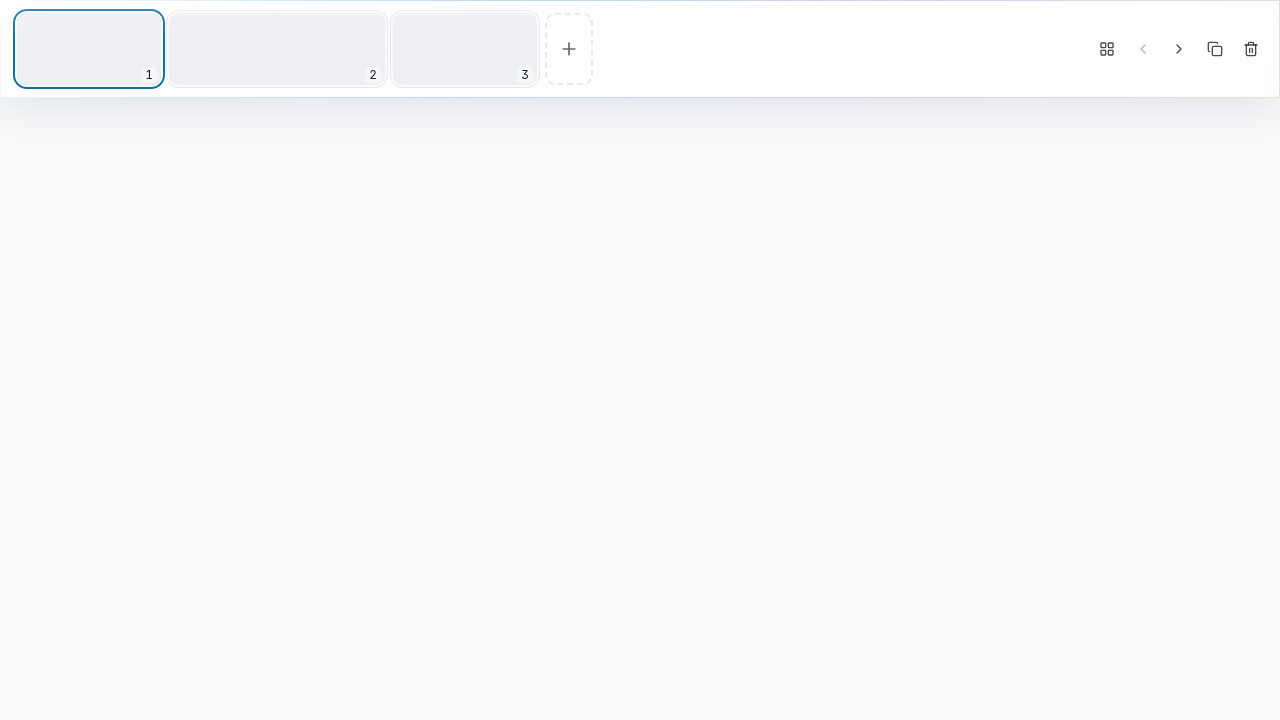
Test: pages strip › reorders pages from the overview without dragging and picks a page
The image size is (1280, 720).
Step 1. Click the button named "All pages" → (1107, 49), box [1091,33,1123,65]
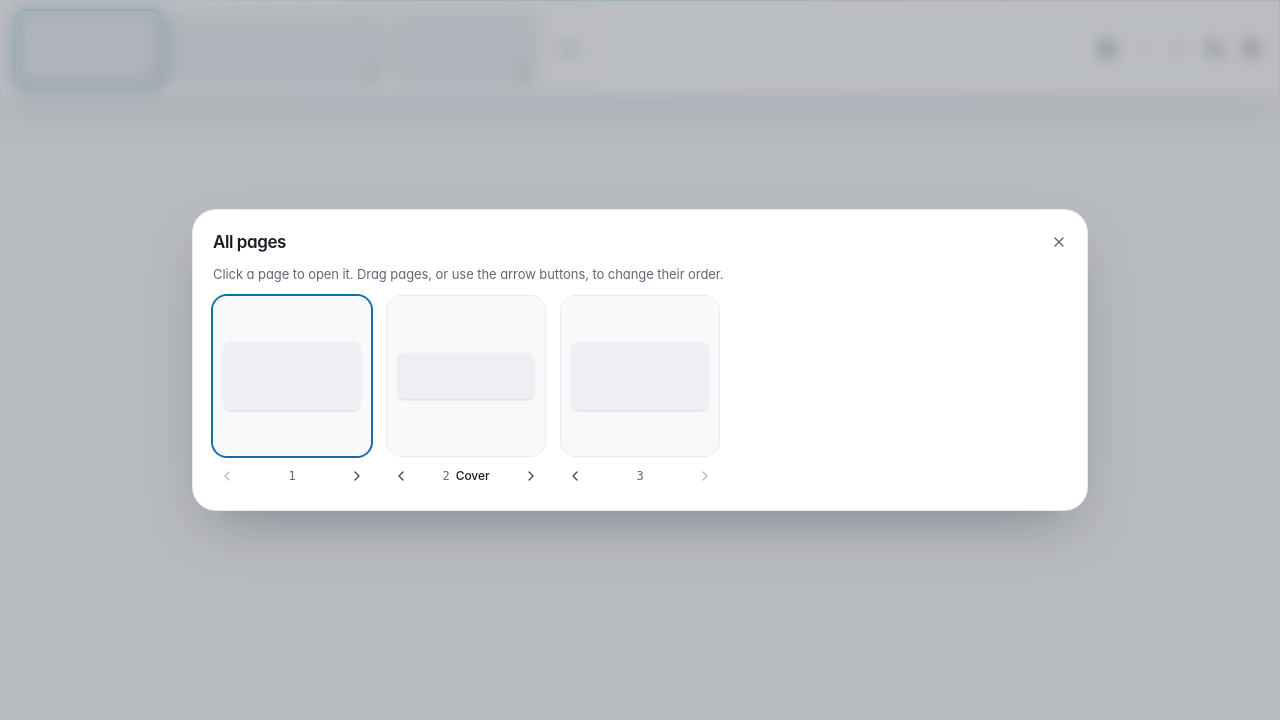
Expected: the button named "Move page 1 earlier" is disabled, [213,462,241,490]
Step 2. Click the button named "Move page 1 later" → (357, 476), box [343,462,371,490]
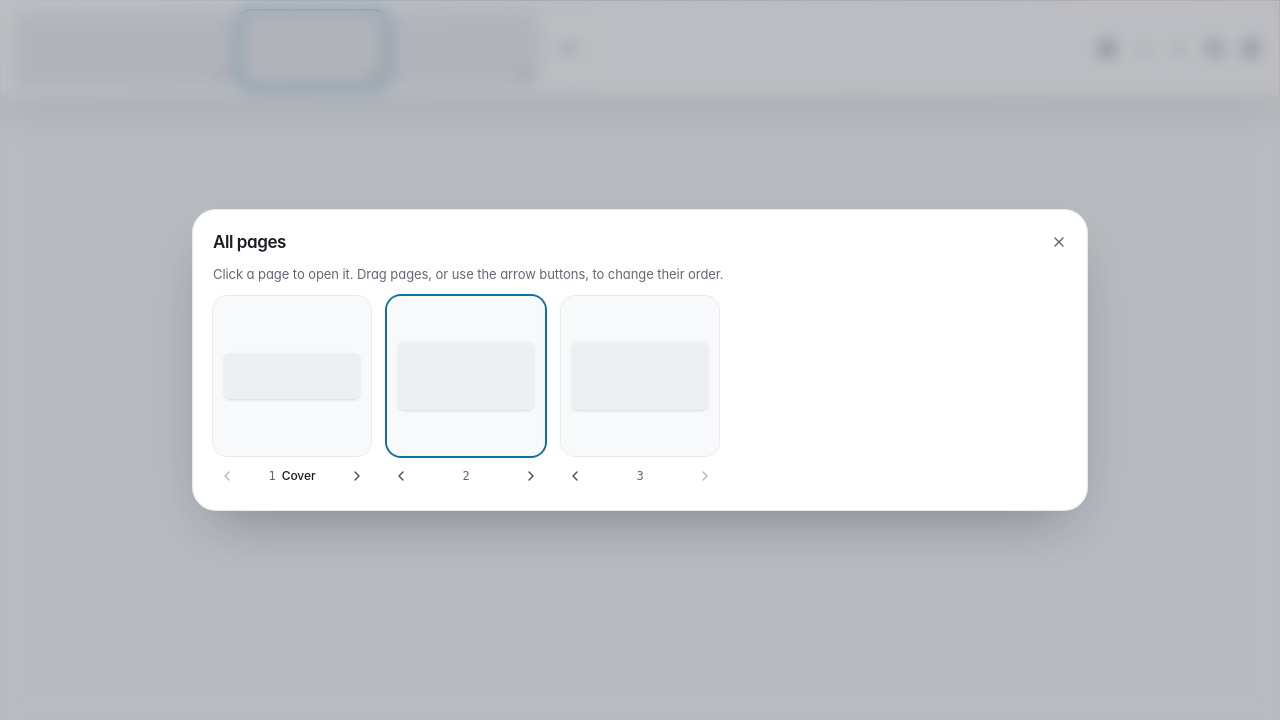
Step 3. Click the button named "Page 3" → (640, 376), box [561,296,719,456]
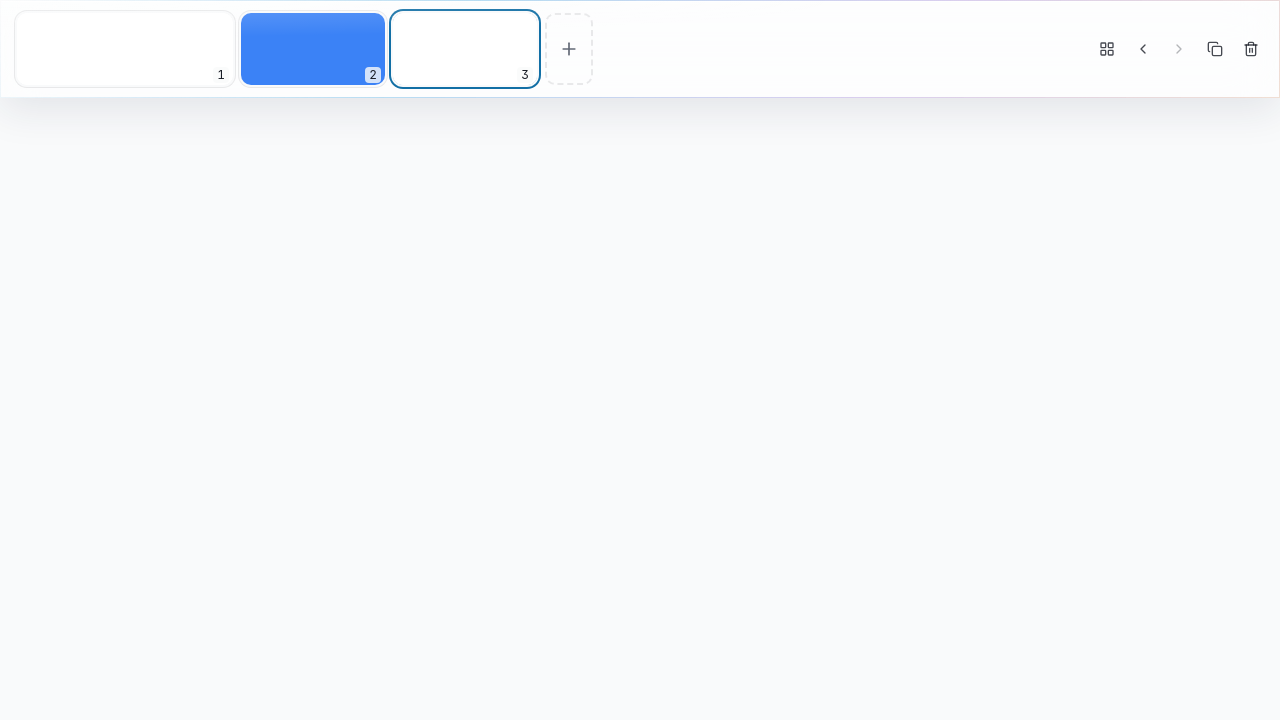
Expected: the dialog is gone
